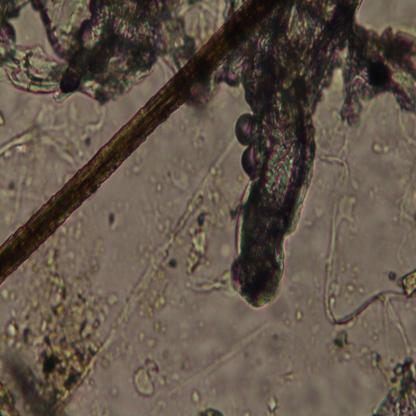Background material: (0, 250, 128, 415), (0, 0, 192, 75), (316, 129, 360, 329), (340, 19, 416, 121), (0, 102, 103, 172), (167, 305, 240, 397), (183, 165, 220, 294), (130, 248, 168, 349), (392, 130, 416, 260), (255, 328, 297, 392), (374, 352, 416, 414), (329, 331, 379, 372), (132, 355, 167, 402), (97, 199, 126, 233), (122, 152, 144, 184), (370, 134, 393, 157), (284, 307, 306, 330), (398, 269, 416, 297), (188, 383, 202, 407), (148, 174, 164, 194), (376, 267, 396, 282), (267, 389, 278, 414), (167, 252, 178, 272)
Cellulose filter fibre: (230, 1, 362, 307), (0, 36, 134, 96)
Hair: (0, 0, 278, 285)
